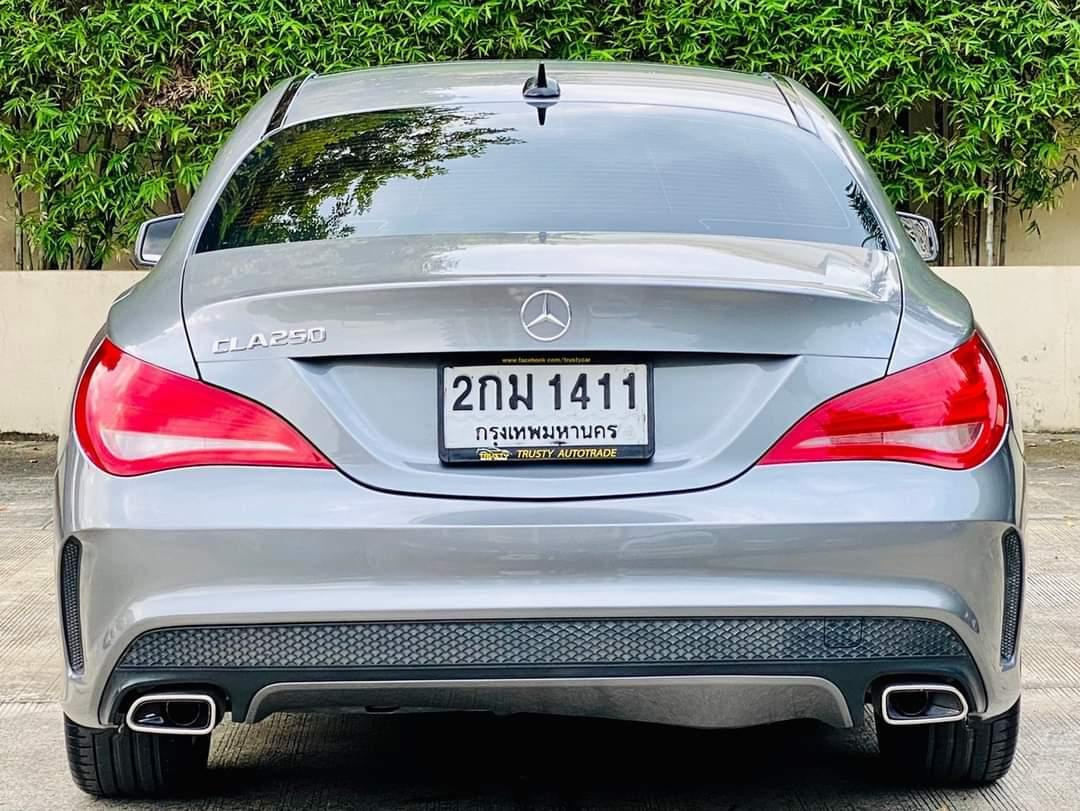license-plate: (430, 348, 660, 468)
